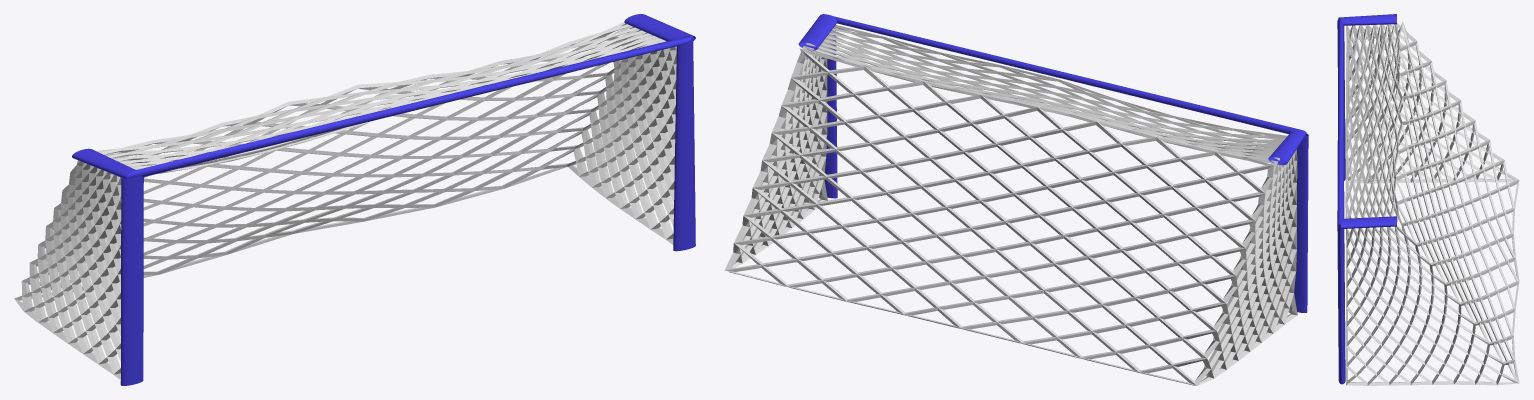
File: goals.glb
The picture shows the model from 3 angles, left to right: view 1: azimuth 30°, elevation 25°; view 2: azimuth 150°, elevation 25°; view 3: azimuth 270°, elevation 25°; orthographic projection. The views are drawn at different scales.
Parts seen in each view (by area): view 1: Cube.001, Cube; view 2: Cube.001, Cube; view 3: Cube.001, Cube.
Boxes of the visible parts, <box> form: Cube.001: <box>14,22,676,379</box>; Cube: <box>72,14,695,385</box>; Cube.001: <box>724,25,1297,385</box>; Cube: <box>798,14,1308,312</box>; Cube.001: <box>1345,21,1519,385</box>; Cube: <box>1337,14,1396,384</box>.
Bounding box in the file's own units: 5.91 × 2.13 × 2.11.
